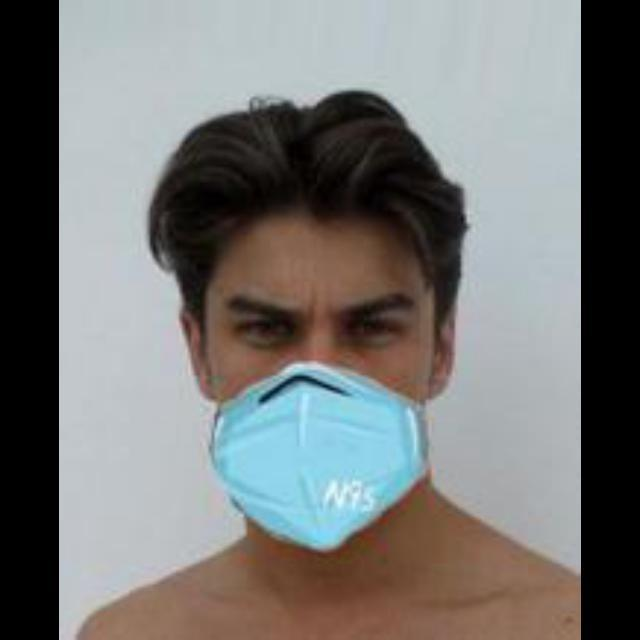suspicion: (130, 108, 492, 540)
